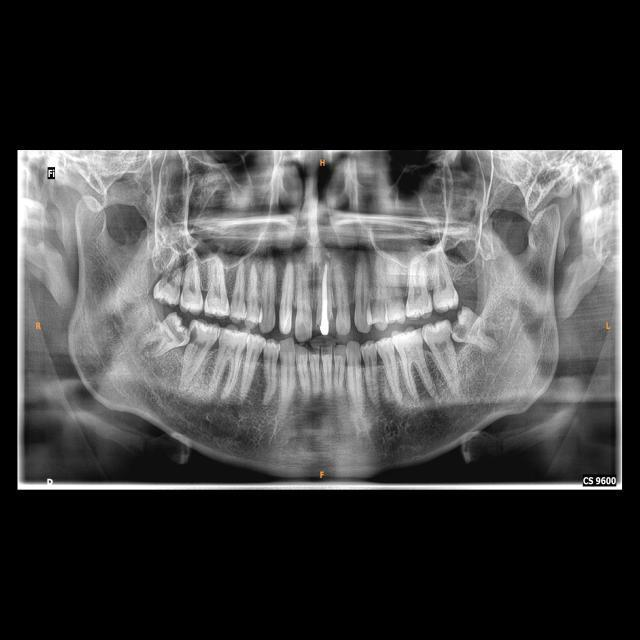dentin-curugu: (455, 322, 468, 341), (190, 327, 199, 344)
kanal-tedavisi: (317, 262, 332, 334)
